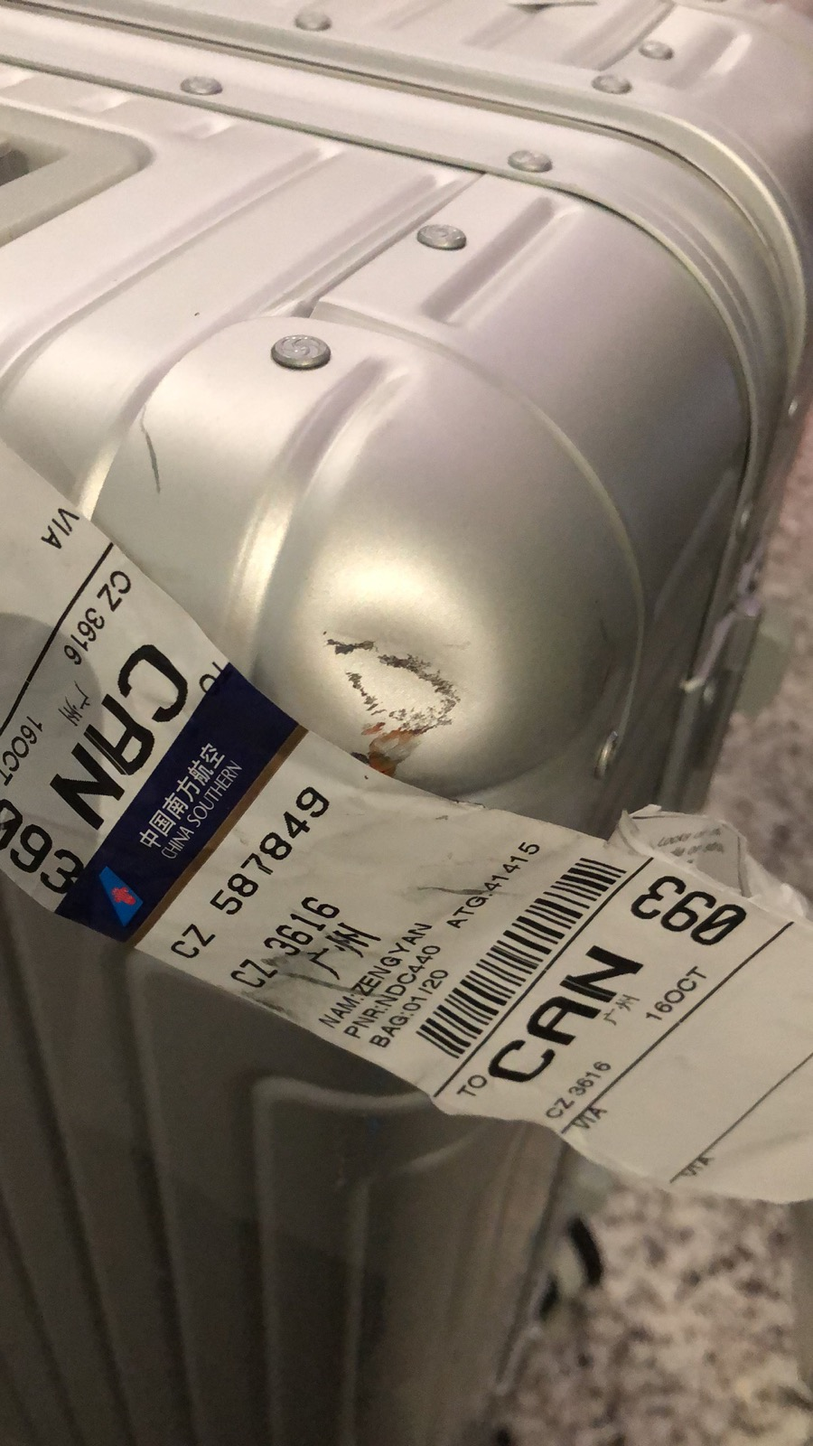rupture: (316, 584, 485, 742)
